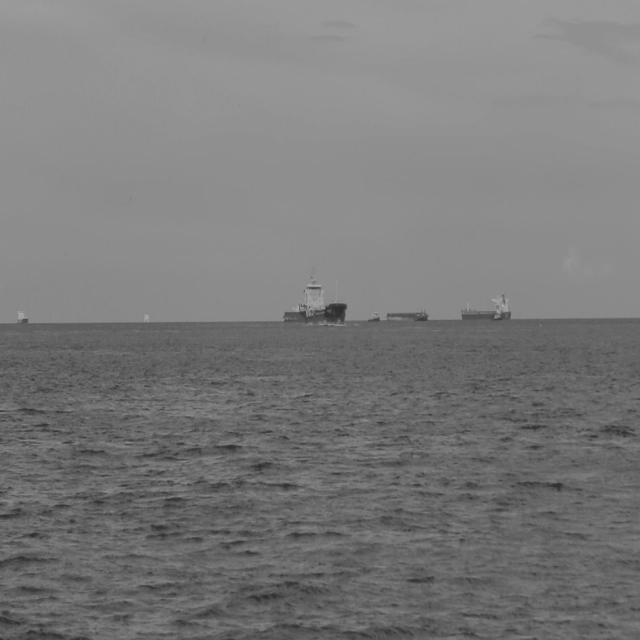ship: (280, 268, 346, 326), (459, 289, 513, 323), (384, 309, 429, 327), (14, 309, 28, 330)
